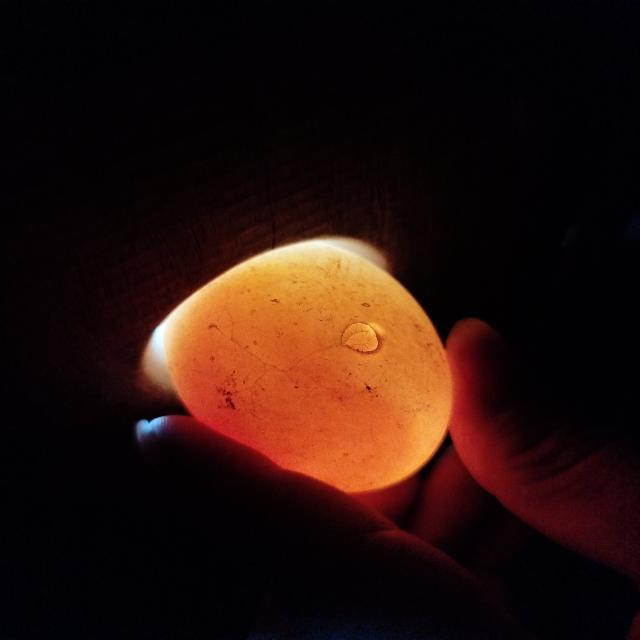Rachadura: (208, 308, 379, 411)
